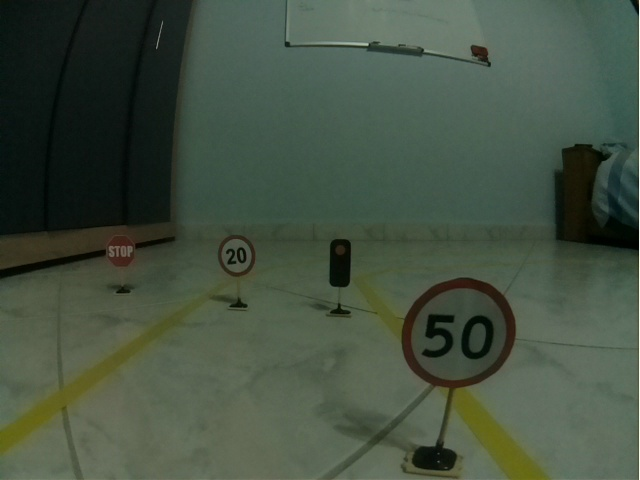Red Traffic Light: (329, 239, 351, 288)
Speed Limit 20: (218, 235, 255, 277)
Speed Limit 50: (401, 277, 516, 388)
Stop: (106, 234, 136, 268)
